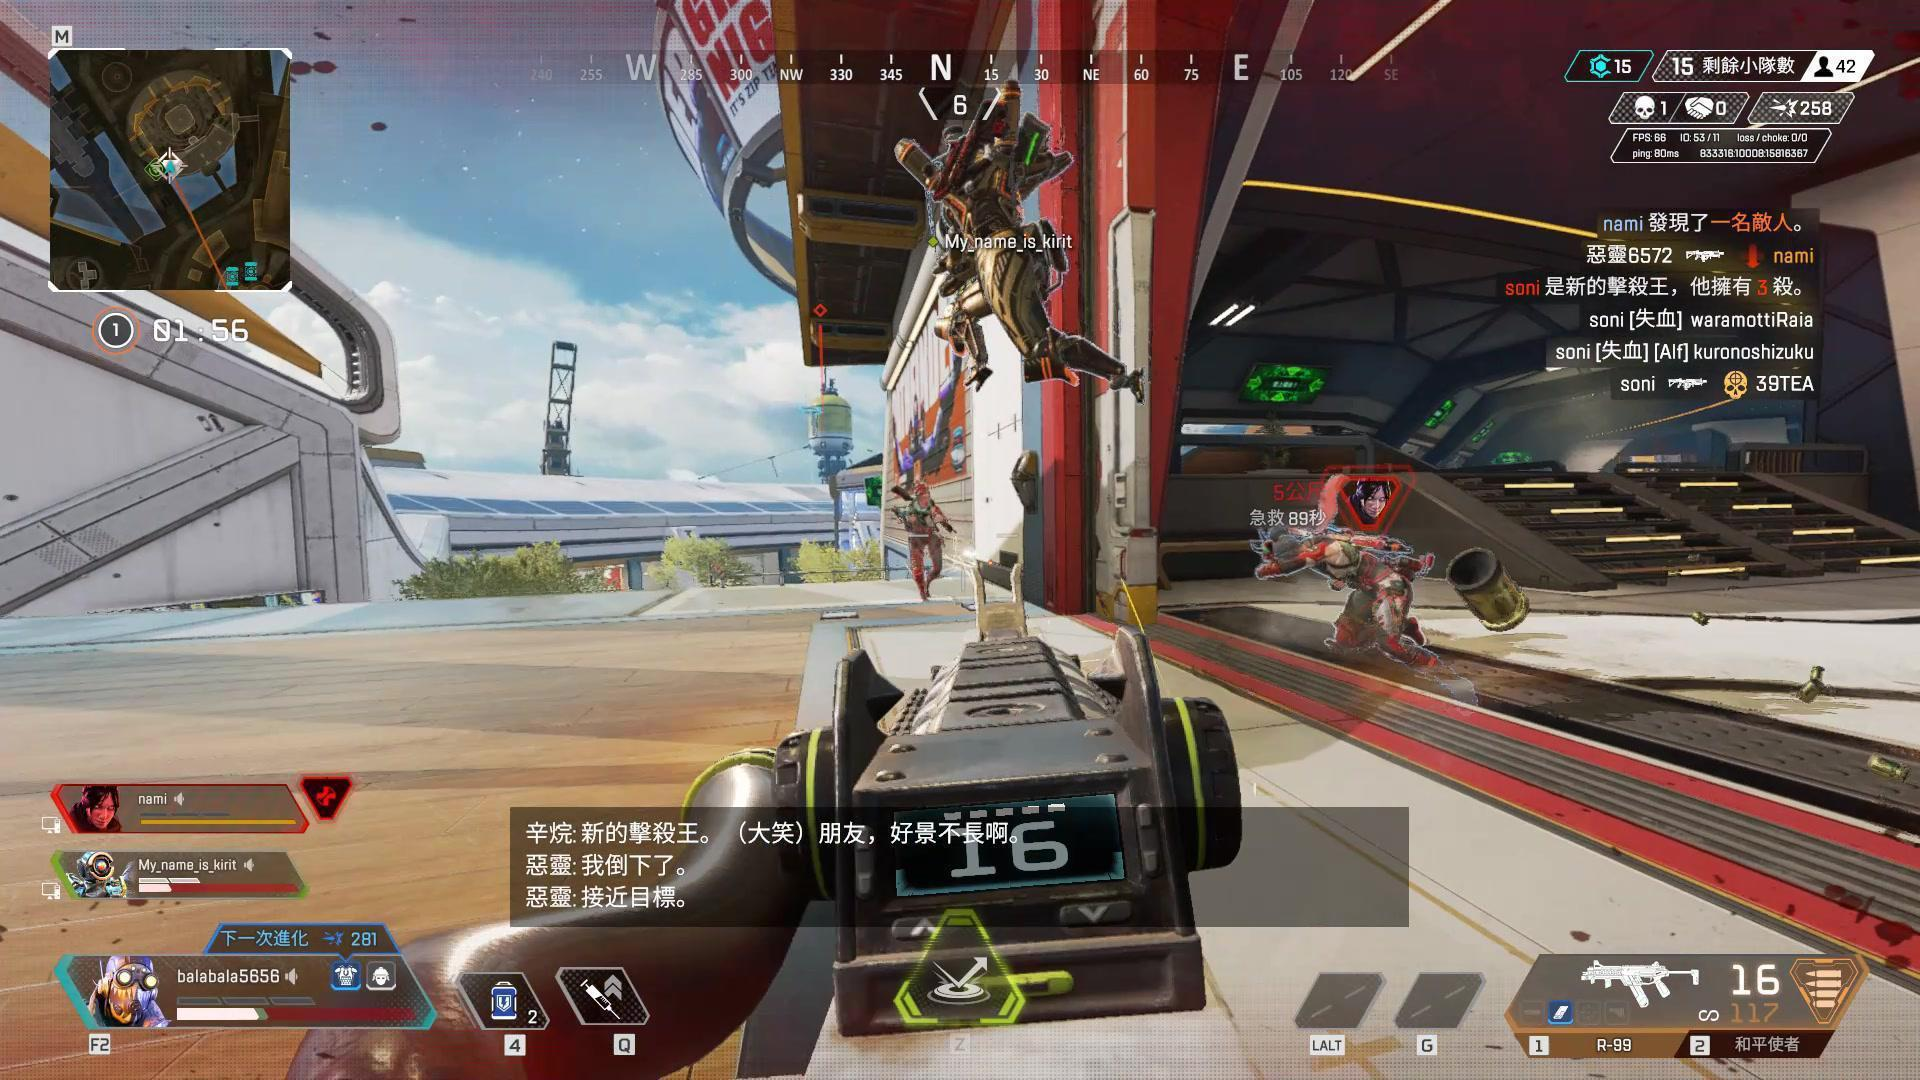avatar: (892, 78, 1084, 392), (890, 480, 949, 604)
